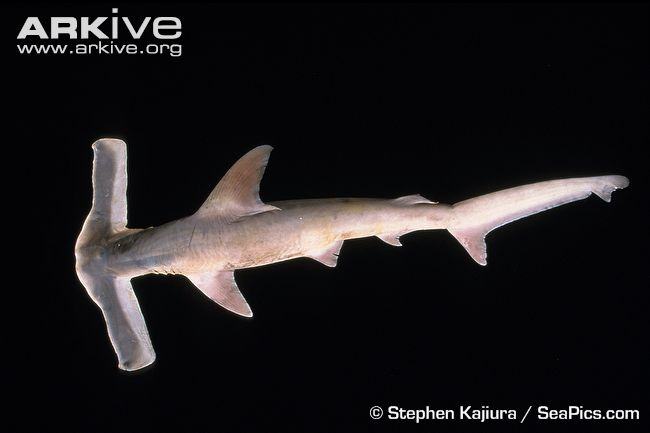shark: (43, 102, 636, 381)
